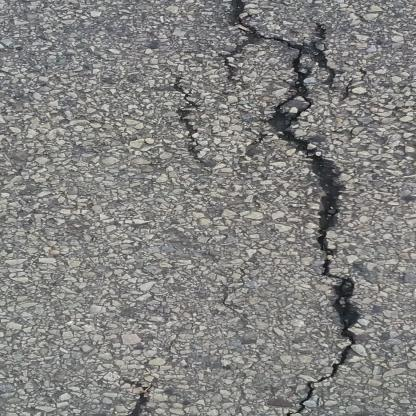Cracks: (167, 0, 360, 416)
